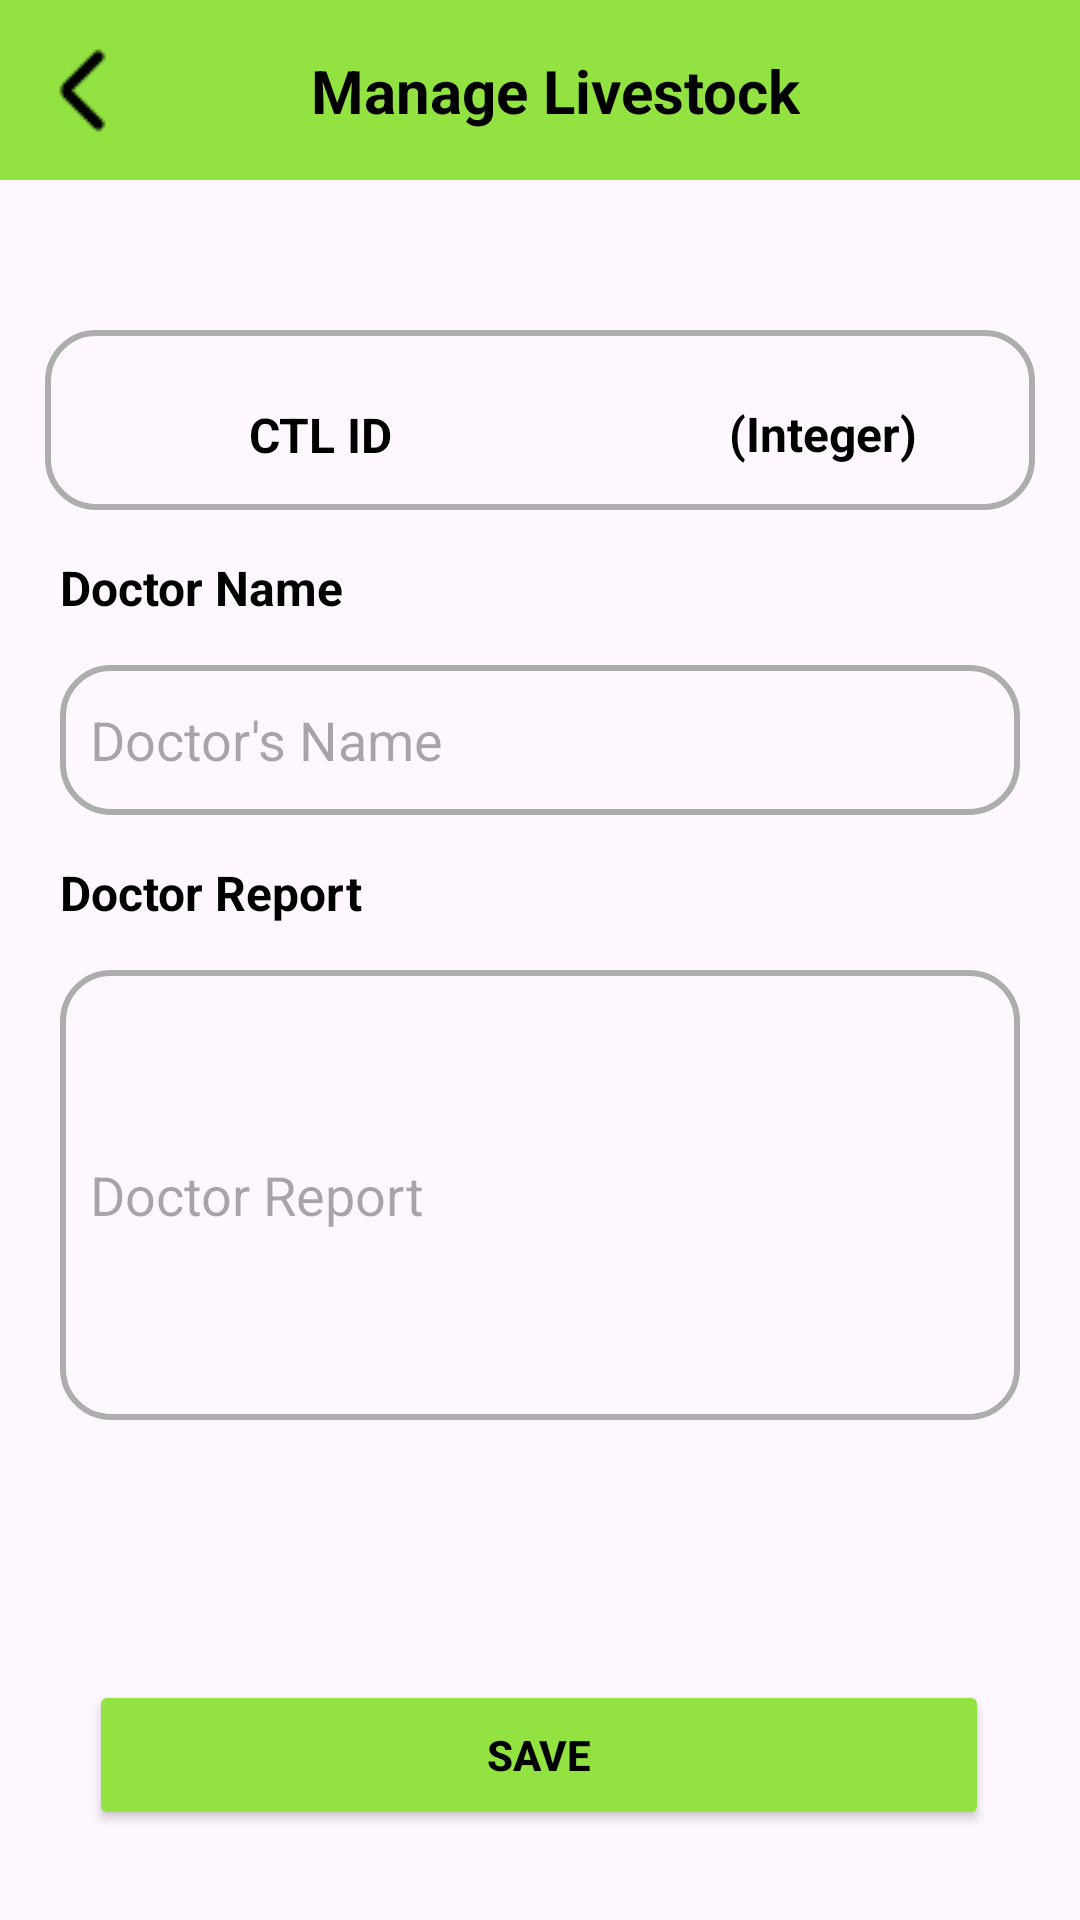

Icon click points for this 1080px x 1920px phone screenshot, format (x,y):
back arrow: (82,90)
